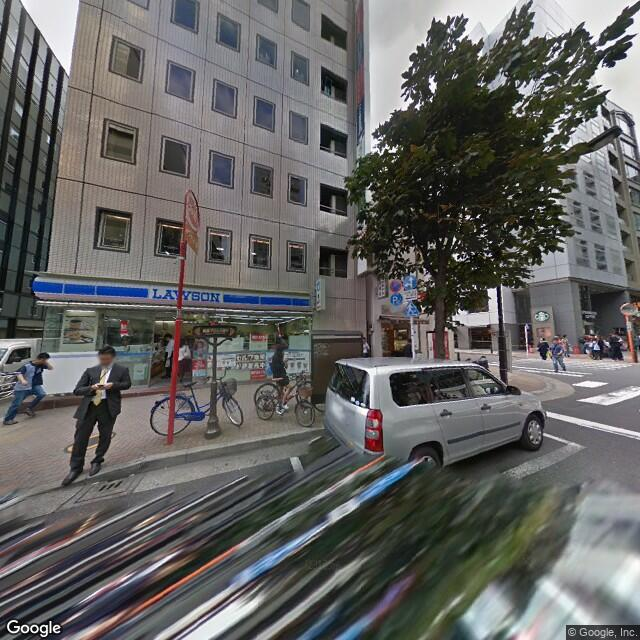lawson: (32, 270, 310, 316)
